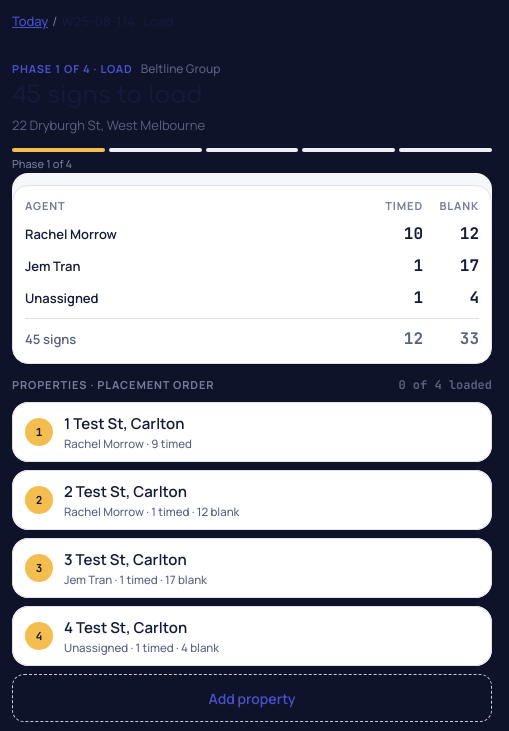
Test: Operator Load page › timed signs checklist › ticks a property loaded on tap, and unticks it on a second tap, saving nothing
Click the button "2 2 Test St, Carlton Rachel Morrow · 1 timed · 12 blank": (125, 492) [12, 470, 492, 530]
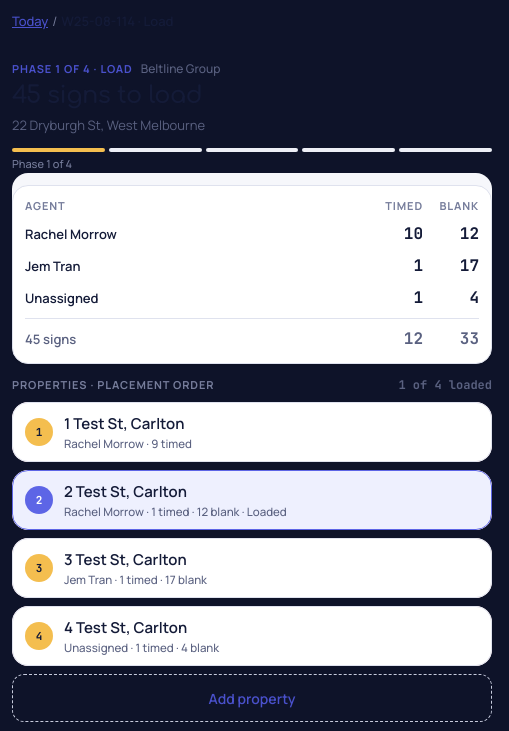
Check: the button "2 Test St, Carlton" shows "Loaded"
Check: the text "1 of 4 loaded" is shown, box [398, 376, 492, 394]
Click the button "2 Test St, Carlton": (125, 492) [12, 470, 492, 530]
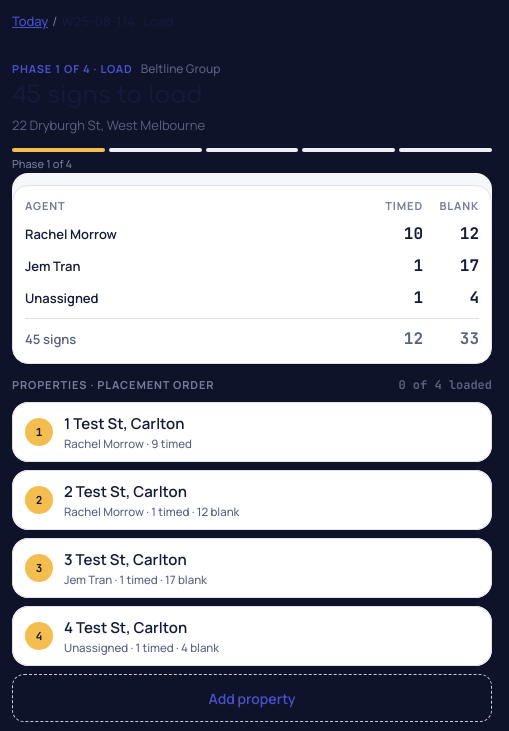
Check: the text "0 of 4 loaded" is shown, box [398, 376, 492, 394]
